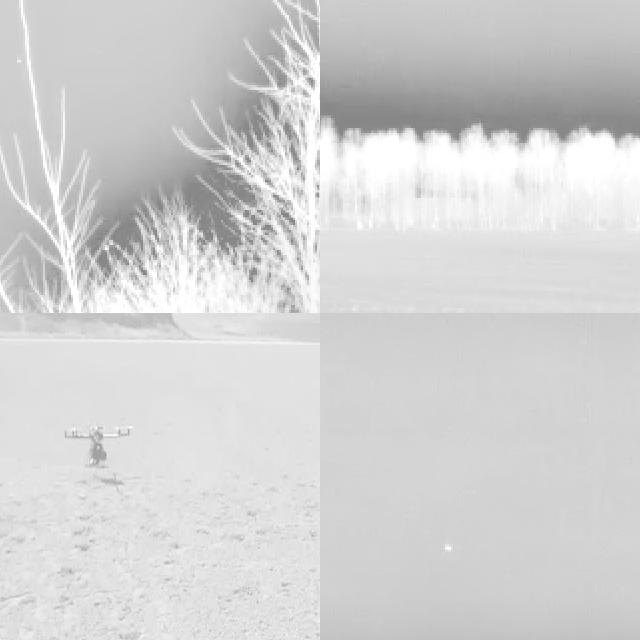0: (9, 54, 25, 71)
1: (427, 532, 463, 570)
drone: (62, 418, 134, 477)
